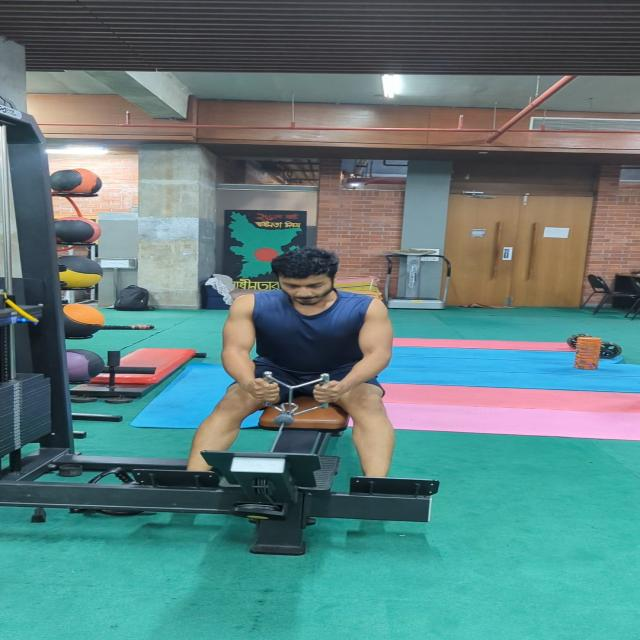Normal_RowingMachineExercise: (182, 246, 397, 480)
